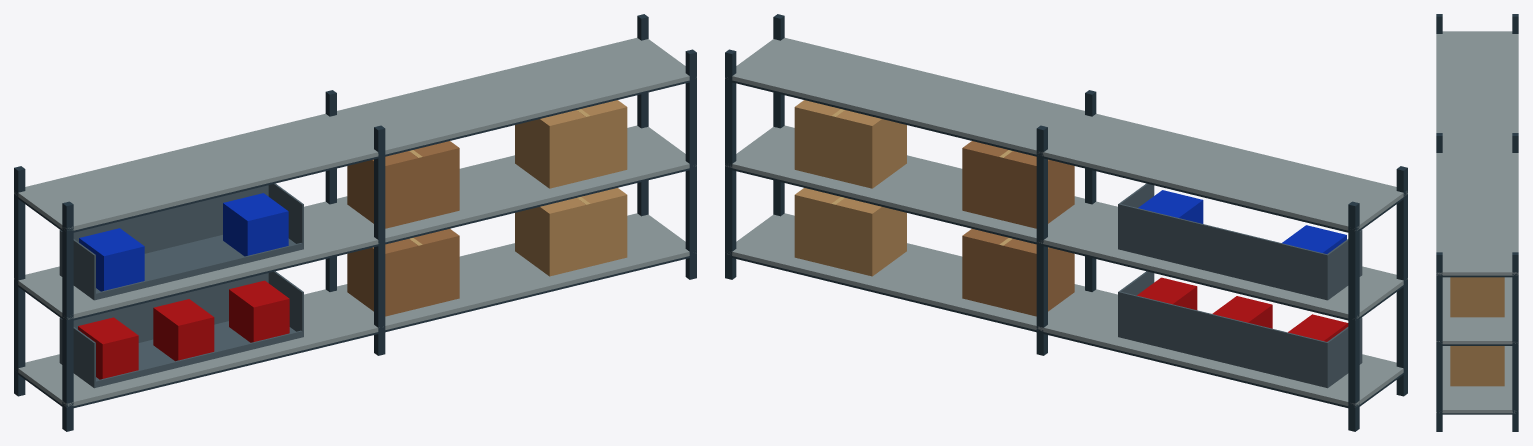
Rendered from inspection_rack.dae.
The picture shows the model from 3 angles, left to right: view 1: azimuth 30°, elevation 25°; view 2: azimuth 150°, elevation 25°; view 3: azimuth 270°, elevation 25°; orthographic projection. The views are drawn at different scales.
Parts seen in each view (by area): view 1: model; view 2: model; view 3: model.
Part boxes in pixels (bbox=[...]): model: bbox=[14, 14, 696, 431]; model: bbox=[725, 14, 1407, 431]; model: bbox=[1436, 14, 1518, 431].
Bounding box in the file's own units: 5.26 × 0.76 × 1.8.
